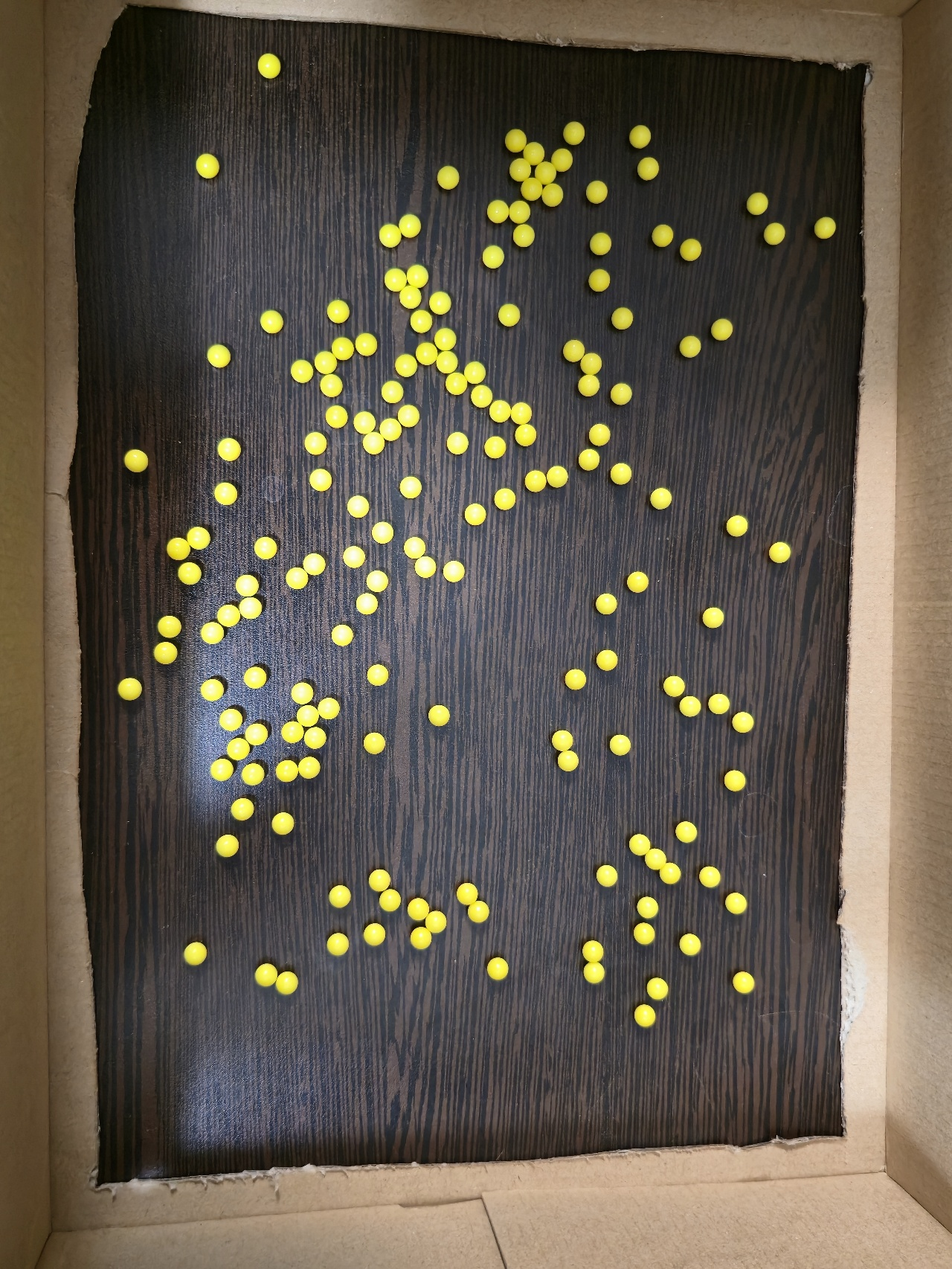yellow_bead: (205, 627, 219, 639), (260, 968, 272, 981), (189, 948, 202, 960), (332, 938, 344, 951), (222, 610, 235, 622), (222, 443, 235, 455), (325, 379, 338, 391), (296, 365, 308, 378), (400, 359, 412, 372), (263, 59, 275, 72), (202, 159, 213, 173), (277, 817, 289, 829), (247, 768, 259, 780), (216, 764, 228, 776), (232, 743, 244, 755), (225, 714, 237, 726), (302, 710, 314, 722), (249, 672, 261, 684), (193, 532, 205, 544), (220, 488, 232, 500), (315, 474, 327, 486), (309, 437, 321, 449), (331, 411, 343, 423), (213, 350, 225, 362), (434, 297, 446, 309), (390, 274, 402, 286), (518, 230, 530, 242), (404, 220, 416, 232), (492, 205, 504, 217), (250, 729, 263, 740), (206, 684, 219, 695), (163, 621, 176, 632), (244, 603, 257, 614), (421, 347, 432, 360), (443, 171, 454, 184), (652, 983, 663, 995), (282, 977, 293, 989), (413, 904, 424, 916), (385, 894, 396, 906), (222, 840, 233, 852), (681, 826, 692, 838), (303, 762, 315, 773), (309, 732, 321, 743), (323, 703, 335, 714), (242, 580, 254, 591), (291, 573, 303, 584), (184, 568, 196, 579), (309, 559, 321, 570), (353, 501, 364, 513), (489, 442, 501, 453), (452, 437, 463, 449), (368, 437, 379, 449), (385, 423, 396, 435), (403, 410, 414, 422), (495, 405, 506, 417), (387, 386, 398, 398), (469, 367, 480, 379), (320, 357, 331, 369), (442, 356, 453, 368), (361, 338, 372, 350), (440, 333, 451, 345), (266, 316, 277, 328), (416, 315, 427, 327), (504, 309, 515, 321), (488, 251, 499, 263), (385, 230, 396, 242), (635, 131, 646, 143), (159, 647, 172, 657), (639, 928, 650, 939), (731, 898, 742, 909), (374, 875, 385, 886), (602, 870, 613, 881), (634, 839, 645, 850), (297, 688, 308, 699), (420, 562, 431, 573), (405, 482, 416, 493), (530, 475, 541, 486), (552, 471, 563, 482), (594, 429, 605, 440), (359, 417, 370, 428), (476, 391, 487, 402), (451, 378, 462, 389), (617, 313, 628, 324), (405, 292, 416, 303), (412, 270, 423, 281), (591, 186, 602, 197), (643, 163, 654, 174), (640, 1010, 650, 1022), (739, 977, 749, 989), (431, 916, 441, 928), (335, 890, 345, 902), (373, 669, 383, 681), (448, 566, 460, 576), (123, 684, 136, 693), (588, 946, 598, 957), (685, 939, 695, 950), (416, 932, 426, 943), (643, 902, 653, 913), (462, 888, 472, 899), (650, 854, 661, 864), (237, 805, 248, 815), (730, 776, 741, 786), (369, 738, 380, 748), (738, 717, 749, 727), (434, 710, 445, 720), (669, 681, 680, 691), (775, 547, 785, 558), (656, 493, 666, 504), (500, 493, 510, 504), (516, 408, 527, 418), (616, 388, 626, 399), (584, 380, 594, 391), (569, 345, 579, 356), (685, 341, 695, 352), (717, 324, 727, 335), (596, 238, 606, 249), (658, 230, 668, 241), (820, 222, 830, 233), (753, 198, 762, 210), (589, 968, 599, 978), (705, 872, 715, 882), (665, 868, 675, 878), (615, 740, 625, 750), (685, 701, 695, 711), (714, 699, 724, 709), (602, 655, 612, 665), (708, 613, 718, 623), (633, 577, 643, 587), (732, 521, 742, 531), (616, 469, 626, 479), (584, 454, 594, 464), (515, 206, 525, 216), (548, 191, 558, 201), (494, 963, 503, 974), (281, 765, 292, 774), (557, 736, 568, 745), (570, 675, 581, 684), (770, 228, 779, 239), (515, 164, 526, 173), (286, 730, 298, 738), (563, 756, 573, 765), (602, 599, 611, 609), (411, 542, 420, 552), (586, 359, 596, 368), (361, 602, 373, 609), (335, 306, 344, 315), (521, 429, 531, 437), (130, 458, 143, 464), (473, 910, 484, 917), (372, 580, 383, 587), (340, 630, 348, 639), (382, 527, 388, 539), (571, 127, 579, 136), (470, 513, 480, 520), (369, 934, 380, 940), (598, 274, 605, 283), (560, 155, 567, 163), (173, 543, 182, 549), (533, 147, 539, 155), (514, 135, 521, 141), (546, 167, 551, 175), (356, 554, 360, 562), (341, 342, 347, 347), (692, 245, 696, 251), (268, 546, 271, 553), (533, 189, 534, 192), (338, 631, 339, 632), (334, 306, 335, 307)
